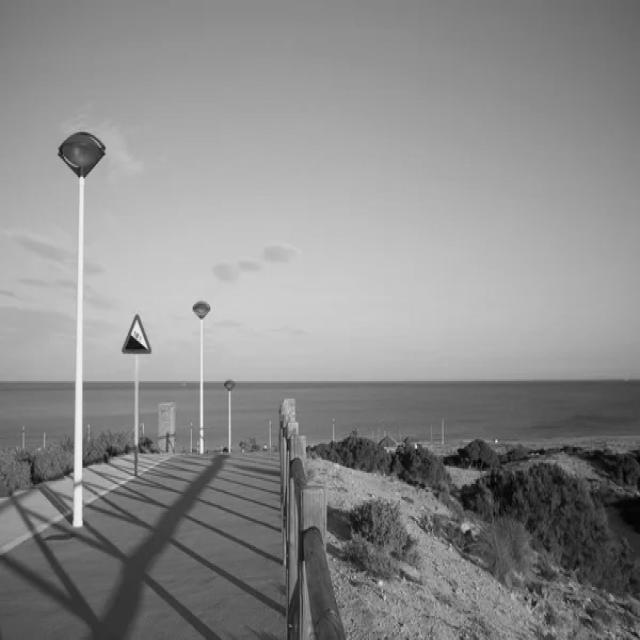Pole: (58, 130, 104, 527), (122, 312, 152, 475), (192, 301, 211, 454), (224, 380, 236, 452)
